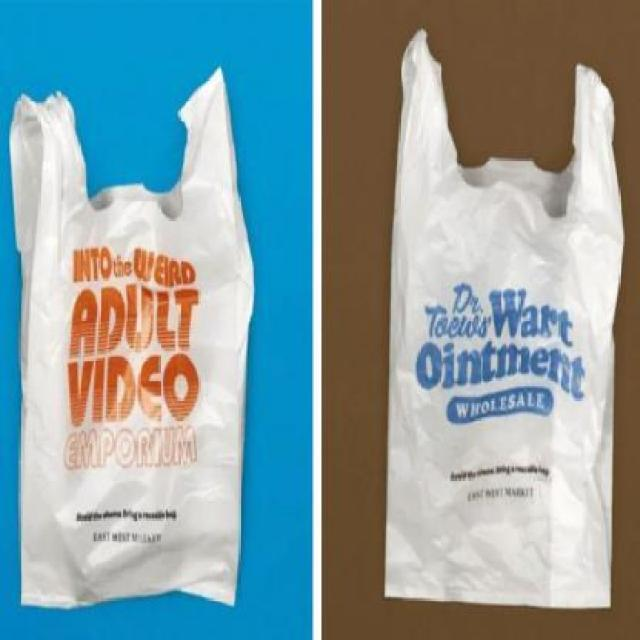plastic bag: (378, 26, 620, 614), (6, 67, 258, 608)
